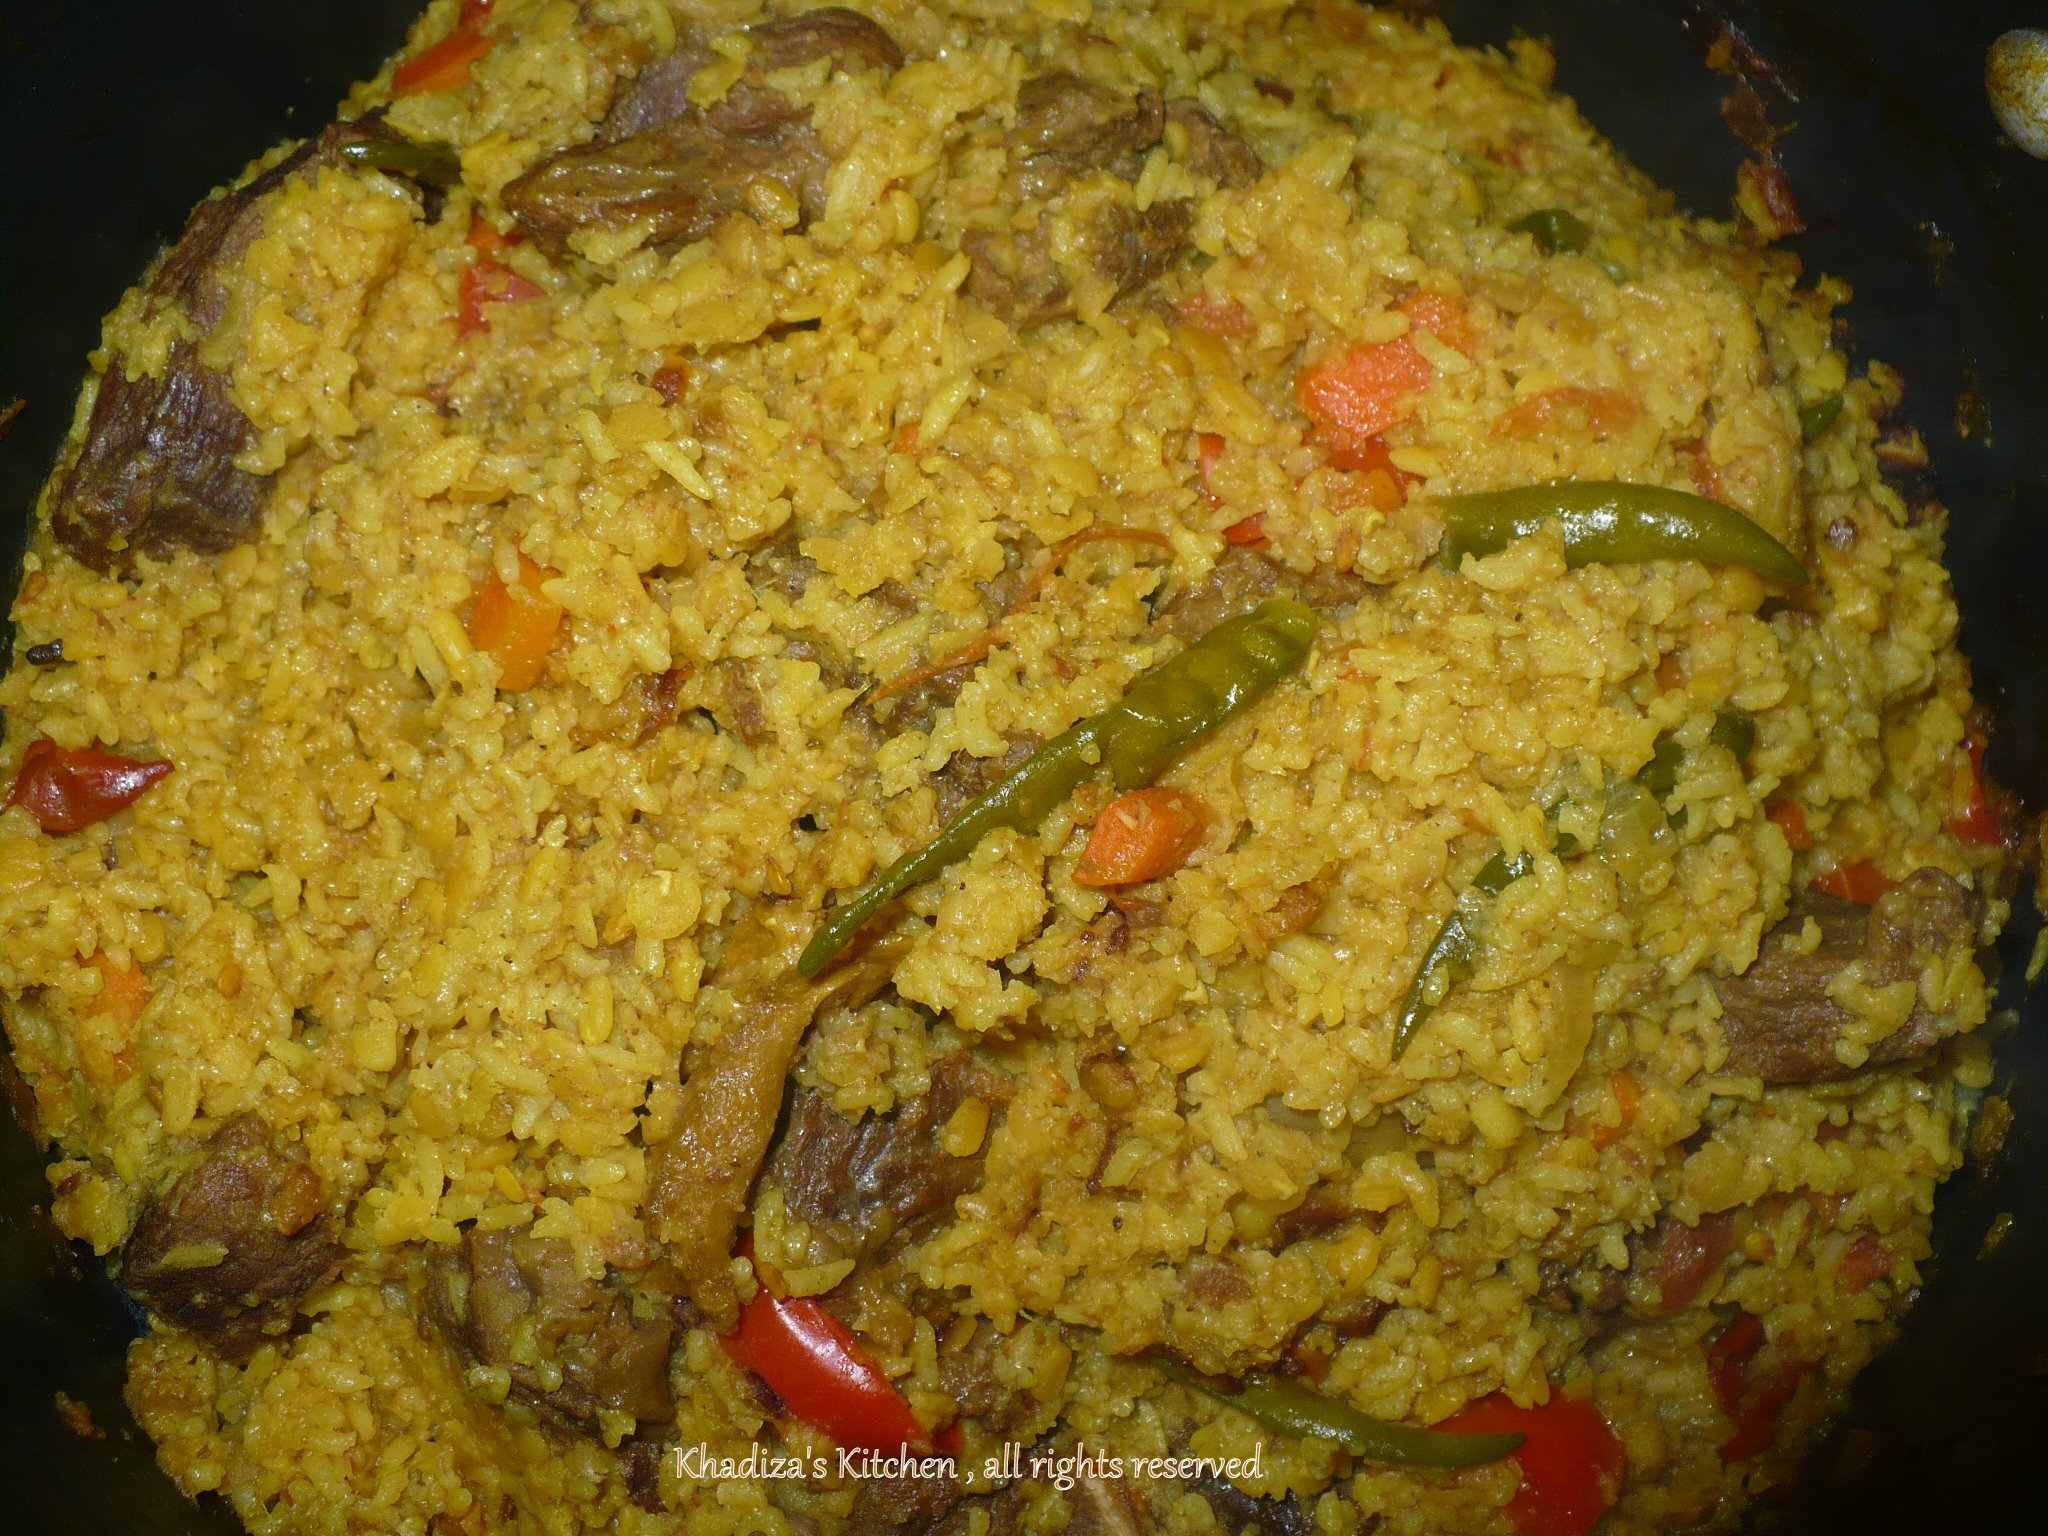khichuri: (55, 32, 1921, 1450)
